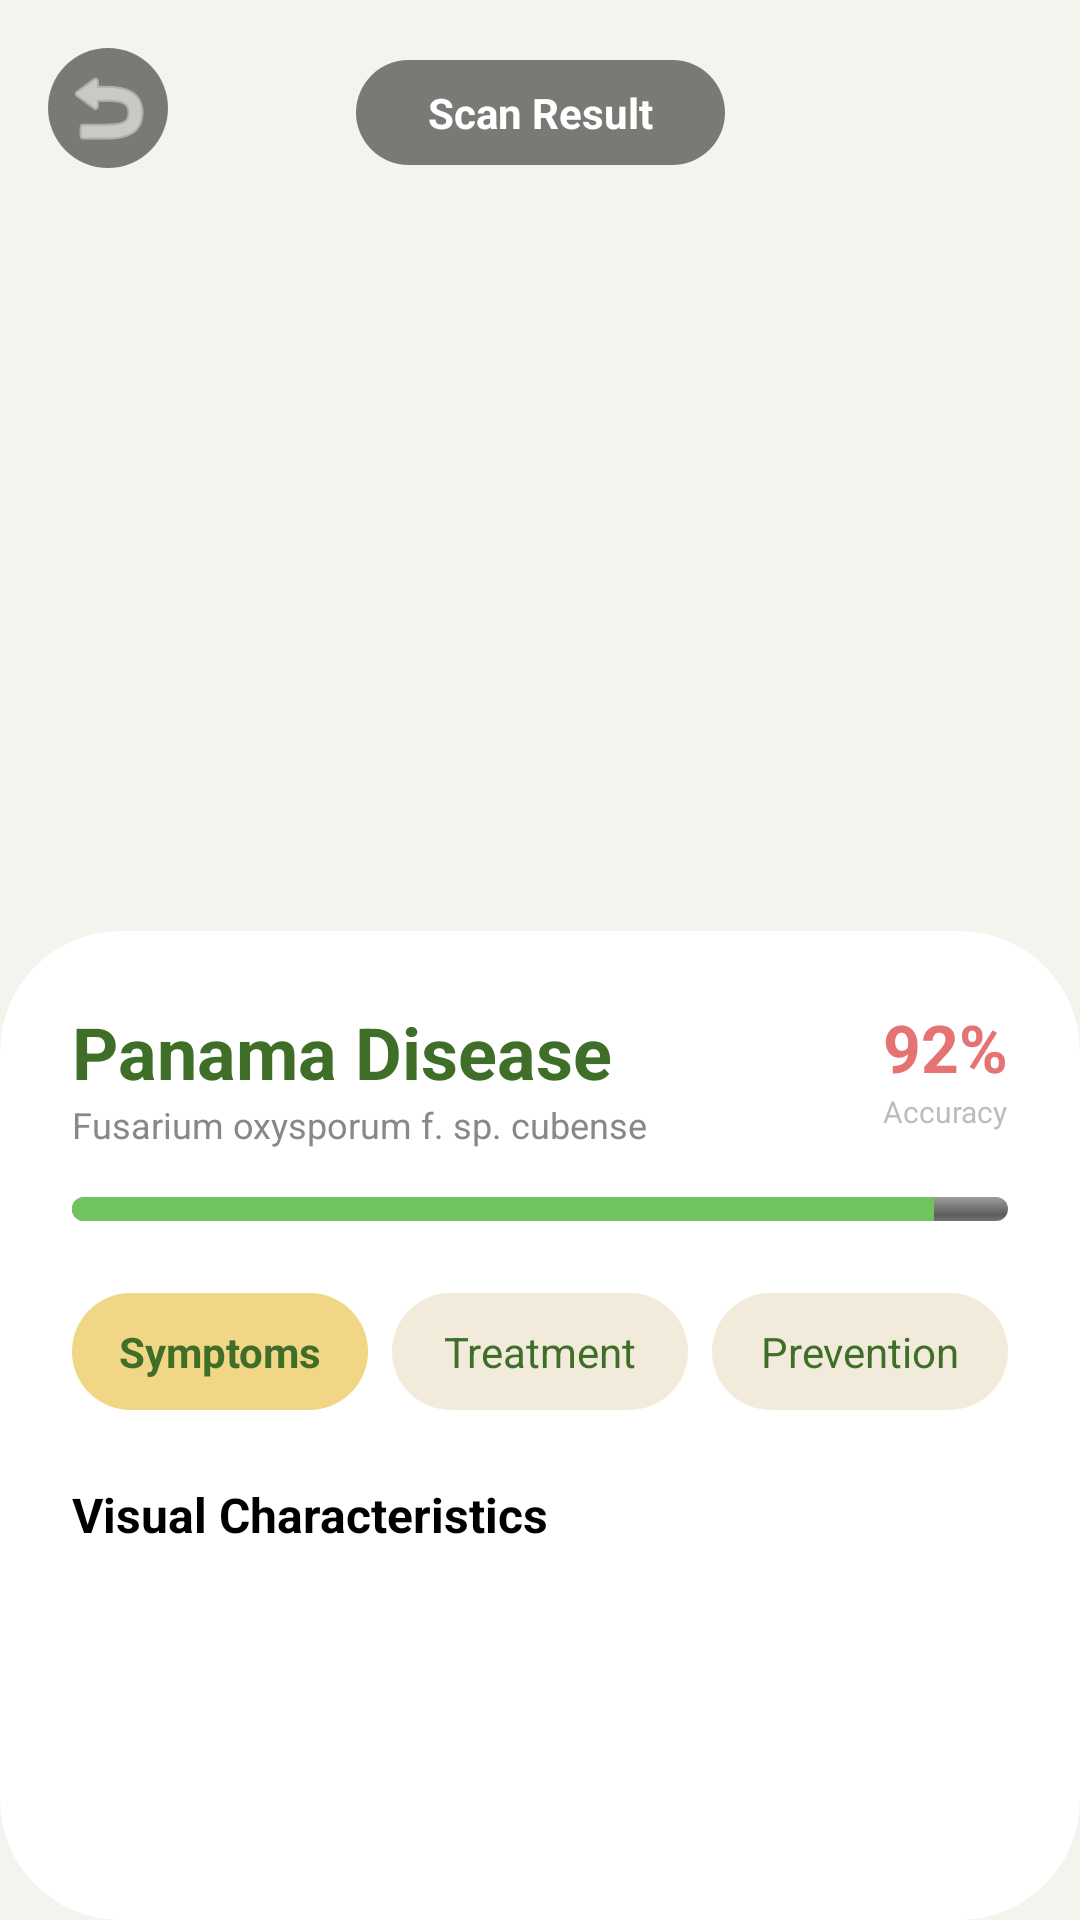

Icons on this 1080*1920 Android screen, each with the point to tap as (x=x, y=y):
revert: (x=108, y=108)
